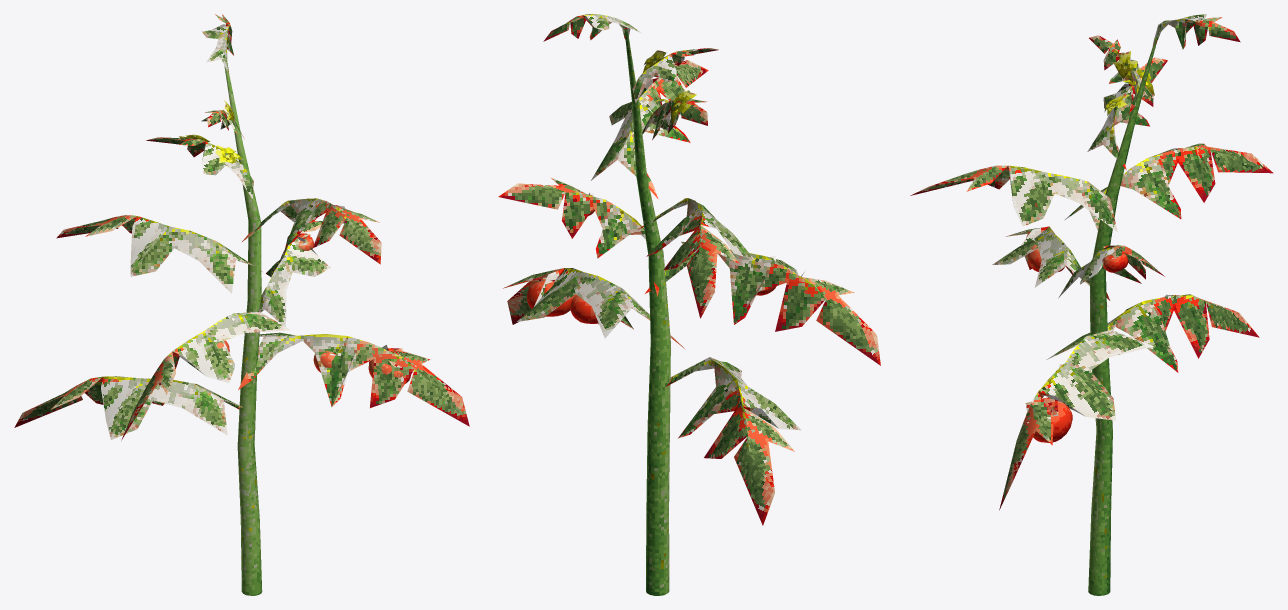
File: tomato_plant.glb
The picture shows the model from 3 angles, left to right: view 1: azimuth 30°, elevation 25°; view 2: azimuth 150°, elevation 25°; view 3: azimuth 270°, elevation 25°; orthographic projection. The views are drawn at different scales.
Parts seen in each view (by area): view 1: mesh; view 2: mesh; view 3: mesh.
Boxes of the visible parts, x1=… form: mesh: x1=14, y1=14, x2=469, y2=595; mesh: x1=498, y1=14, x2=880, y2=595; mesh: x1=910, y1=14, x2=1273, y2=595.
Size of the model in its own units: 0.3325 by 0.5 by 0.2826.
1 material, 1 textured.
